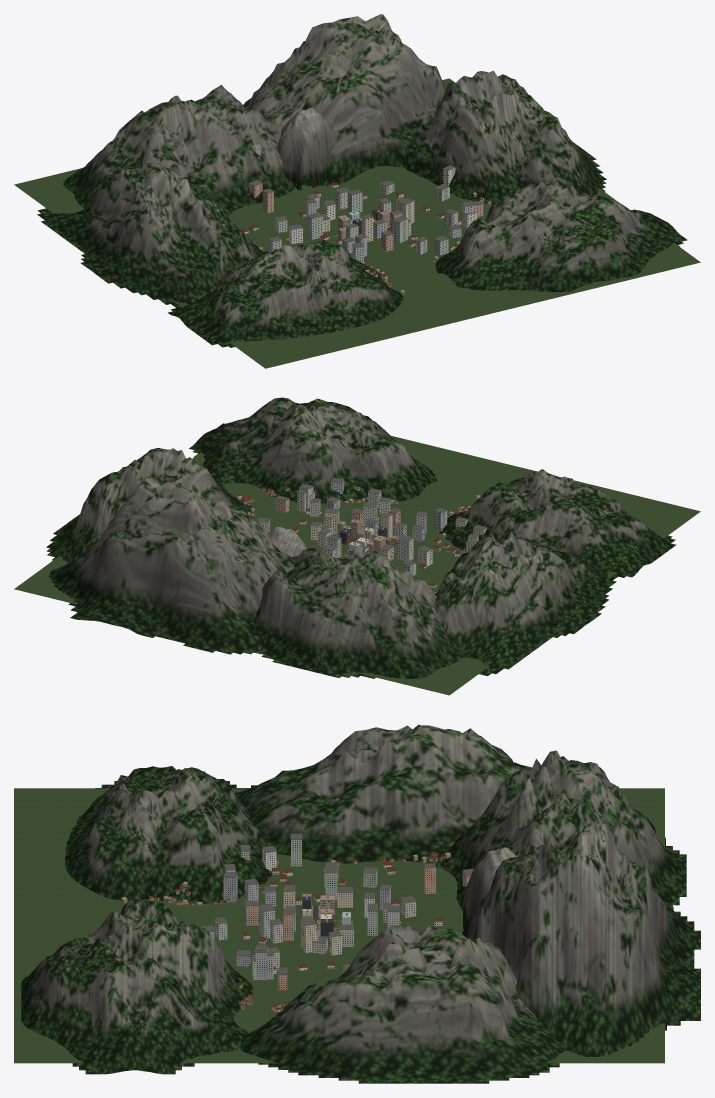
Rendered from cena.glb.
3 views of the same model, one above another, from view 1: azimuth 30°, elevation 25°; view 2: azimuth 150°, elevation 25°; view 3: azimuth 270°, elevation 25° (orthographic). The views are drawn at different scales.
Parts seen in each view (by area): view 1: 17_Entorno_Longe_Estatico, 01_Rua_Patio_Estatico; view 2: 17_Entorno_Longe_Estatico, 01_Rua_Patio_Estatico; view 3: 17_Entorno_Longe_Estatico, 01_Rua_Patio_Estatico.
Part boxes in pixels (x1,y1,x2,y2): 17_Entorno_Longe_Estatico: (14,14,700,368); 01_Rua_Patio_Estatico: (333,208,389,240); 17_Entorno_Longe_Estatico: (14,397,700,695); 01_Rua_Patio_Estatico: (335,519,399,553); 17_Entorno_Longe_Estatico: (14,724,700,1083); 01_Rua_Patio_Estatico: (302,893,352,937).
Size of the model in its own units: 1020 by 232 by 950.
198 materials, 116 textured.
